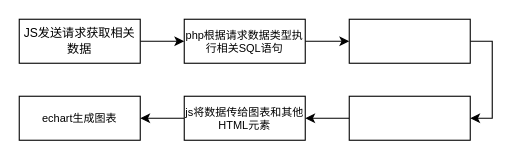
The diagram is 520 pixels wide and 160 high, and some of its shapes have lost their labels. The shapes that lost their labels are listed below. From the top down, each one's centre as x and y in pixels, then its label:
At (409,40): "php将查询结果集保存到数组当中".
At (409,117): "php返回数据给前端js脚本".
